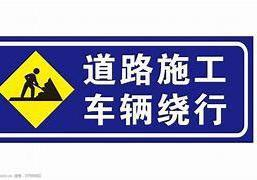sign: (1, 38, 249, 138)
